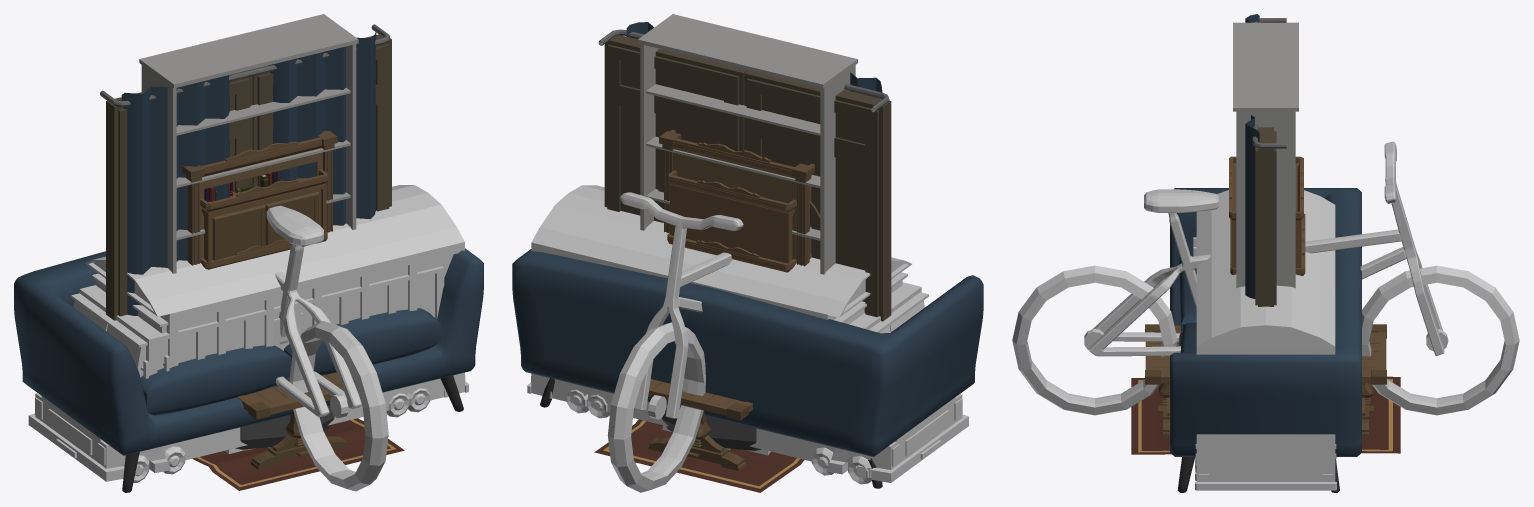
Rendered from lycee.glb.
3 views of the same model, side by side, from view 1: azimuth 30°, elevation 25°; view 2: azimuth 150°, elevation 25°; view 3: azimuth 270°, elevation 25° (orthographic). The views are drawn at different scales.
Visible parts, largest first — view 1: innen/Couch_Medium1, verkehr/SchoolBus, innen/Curtains_Double, innen/Bookshelf, verkehr/Bicycle, innen/Door_Double, verkehr/Bus, moebel/Closet, moebel/Bookcase, innen/Carpet_1, moebel/Table, essen/CookingPot_Soup (+3 smaller); view 2: innen/Couch_Medium1, innen/Door_Double, verkehr/SchoolBus, innen/Bookshelf, verkehr/Bicycle, moebel/Bookcase, moebel/Closet, verkehr/Bus, innen/Carpet_1, moebel/Table, essen/CookingPot_Soup, innen/Curtains_Double (+2 smaller); view 3: innen/Couch_Medium1, verkehr/Bicycle, verkehr/SchoolBus, innen/Bookshelf, innen/Carpet_1, innen/Door_Double, moebel/Table, innen/Curtains_Double, moebel/Closet, moebel/Table2.
Boxes of the visible parts, bbox=[...] form: innen/Couch_Medium1: bbox=[14, 248, 483, 492]; verkehr/SchoolBus: bbox=[28, 185, 468, 482]; innen/Curtains_Double: bbox=[100, 24, 389, 315]; innen/Bookshelf: bbox=[139, 14, 358, 273]; verkehr/Bicycle: bbox=[266, 205, 388, 491]; innen/Door_Double: bbox=[106, 34, 391, 320]; verkehr/Bus: bbox=[71, 266, 448, 475]; moebel/Closet: bbox=[200, 169, 328, 269]; moebel/Bookcase: bbox=[182, 130, 337, 265]; innen/Carpet_1: bbox=[192, 418, 404, 490]; moebel/Table: bbox=[236, 372, 358, 469]; essen/CookingPot_Soup: bbox=[235, 367, 334, 449]; innen/Couch_Medium1: bbox=[512, 249, 983, 488]; innen/Door_Double: bbox=[604, 35, 891, 321]; verkehr/SchoolBus: bbox=[527, 185, 968, 484]; innen/Bookshelf: bbox=[638, 14, 857, 274]; verkehr/Bicycle: bbox=[607, 192, 743, 492]; moebel/Bookcase: bbox=[659, 129, 814, 266]; moebel/Closet: bbox=[668, 170, 796, 263]; verkehr/Bus: bbox=[549, 282, 928, 477]; innen/Carpet_1: bbox=[594, 419, 804, 492]; moebel/Table: bbox=[648, 379, 752, 470]; essen/CookingPot_Soup: bbox=[662, 407, 761, 450]; innen/Curtains_Double: bbox=[598, 22, 889, 112]; innen/Couch_Medium1: bbox=[1170, 188, 1361, 492]; verkehr/Bicycle: bbox=[1012, 141, 1519, 415]; verkehr/SchoolBus: bbox=[1193, 190, 1336, 490]; innen/Bookshelf: bbox=[1233, 22, 1298, 288]; innen/Carpet_1: bbox=[1131, 376, 1400, 454]; innen/Door_Double: bbox=[1255, 127, 1276, 306]; moebel/Table: bbox=[1145, 324, 1386, 436]; innen/Curtains_Double: bbox=[1245, 14, 1286, 298]; moebel/Closet: bbox=[1229, 156, 1303, 274]; moebel/Table2: bbox=[1153, 325, 1378, 431].
Bounding box in the file's own units: 4.69 × 4.44 × 5.83.
